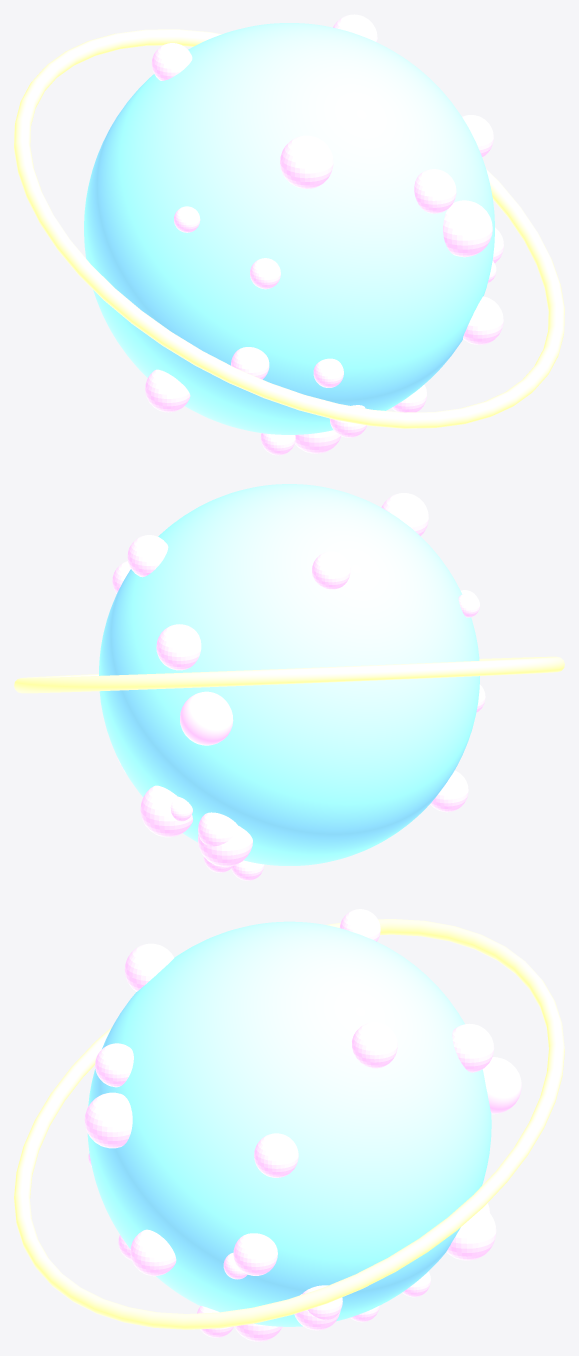
Rendered from globe.glb.
3 views of the same model, one above another, from view 1: azimuth 30°, elevation 25°; view 2: azimuth 150°, elevation 25°; view 3: azimuth 270°, elevation 25° (orthographic). The views are drawn at different scales.
Parts seen in each view (by area): view 1: Globe_main, Globe_ring, Globe_dot_12, Globe_dot_21, Globe_dot_10, Globe_dot_5, Globe_dot_24, Globe_dot_25, Globe_dot_16, Globe_dot_6, Globe_dot_18, Globe_dot_20 (+4 smaller); view 2: Globe_main, Globe_ring, Globe_dot_27, Globe_dot_1, Globe_dot_17, Globe_dot_23, Globe_dot_9, Globe_dot_21, Globe_dot_25, Globe_dot_26, Globe_dot_5, Globe_dot_22; view 3: Globe_main, Globe_ring, Globe_dot_12, Globe_dot_9, Globe_dot_17, Globe_dot_27, Globe_dot_24, Globe_dot_20, Globe_dot_1, Globe_dot_11, Globe_dot_21, Globe_dot_10 (+3 smaller).
Part boxes in pixels (x1=…): Globe_main: x1=84, y1=23, x2=494, y2=434; Globe_ring: x1=14, y1=29, x2=564, y2=428; Globe_dot_12: x1=443, y1=200, x2=492, y2=257; Globe_dot_21: x1=280, y1=135, x2=333, y2=188; Globe_dot_10: x1=414, y1=169, x2=456, y2=213; Globe_dot_5: x1=145, y1=369, x2=190, y2=412; Globe_dot_24: x1=463, y1=296, x2=503, y2=344; Globe_dot_25: x1=151, y1=43, x2=192, y2=80; Globe_dot_16: x1=231, y1=347, x2=269, y2=379; Globe_dot_6: x1=294, y1=430, x2=341, y2=453; Globe_dot_18: x1=250, y1=258, x2=280, y2=289; Globe_dot_20: x1=462, y1=115, x2=493, y2=157; Globe_main: x1=99, y1=484, x2=479, y2=865; Globe_ring: x1=14, y1=656, x2=564, y2=693; Globe_dot_27: x1=180, y1=691, x2=233, y2=745; Globe_dot_1: x1=156, y1=624, x2=201, y2=670; Globe_dot_17: x1=140, y1=785, x2=192, y2=837; Globe_dot_23: x1=198, y1=826, x2=252, y2=866; Globe_dot_9: x1=127, y1=535, x2=168, y2=577; Globe_dot_21: x1=381, y1=493, x2=428, y2=535; Globe_dot_25: x1=312, y1=551, x2=350, y2=589; Globe_dot_26: x1=198, y1=812, x2=237, y2=846; Globe_dot_5: x1=430, y1=770, x2=468, y2=812; Globe_dot_22: x1=231, y1=860, x2=264, y2=880; Globe_main: x1=87, y1=921, x2=491, y2=1326; Globe_ring: x1=14, y1=919, x2=564, y2=1329; Globe_dot_12: x1=84, y1=1092, x2=132, y2=1148; Globe_dot_9: x1=352, y1=1022, x2=397, y2=1068; Globe_dot_17: x1=446, y1=1207, x2=496, y2=1260; Globe_dot_27: x1=482, y1=1057, x2=521, y2=1114; Globe_dot_24: x1=130, y1=1229, x2=176, y2=1276; Globe_dot_20: x1=254, y1=1133, x2=298, y2=1177; Globe_dot_1: x1=452, y1=1023, x2=494, y2=1072; Globe_dot_11: x1=233, y1=1233, x2=277, y2=1275; Globe_dot_21: x1=124, y1=943, x2=174, y2=991; Globe_dot_10: x1=95, y1=1043, x2=133, y2=1087.
Bounding box in the file's own units: 2.79 × 2.14 × 2.71.
